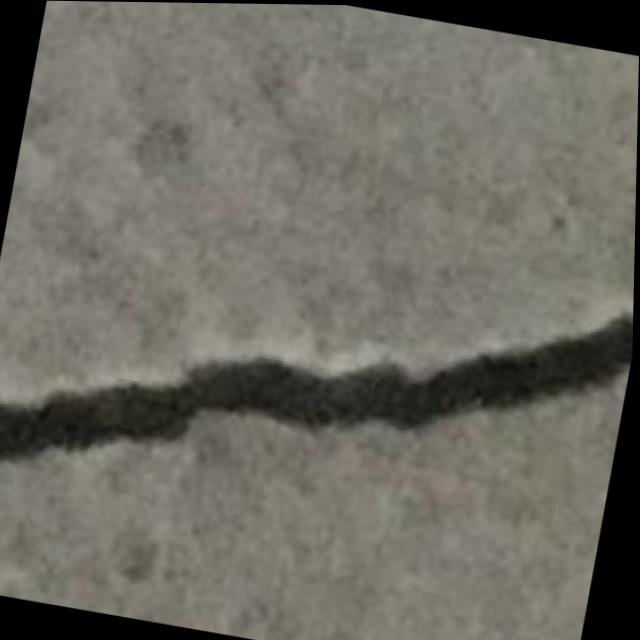Crack: (0, 199, 637, 570)
